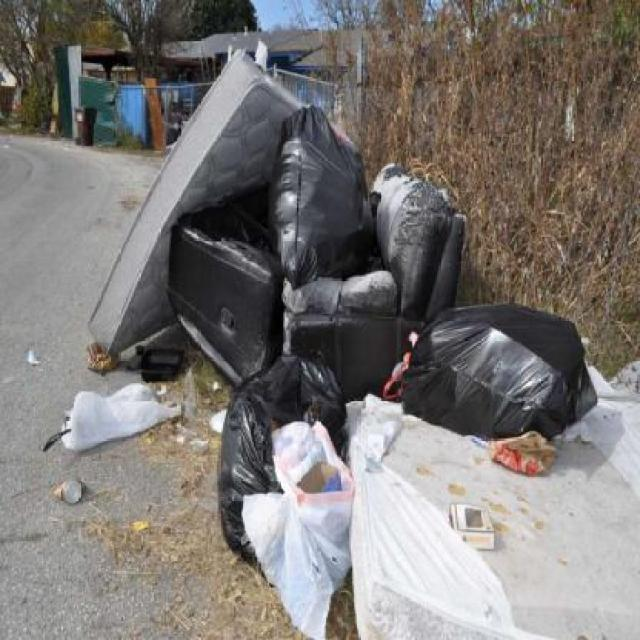garbage: (216, 339, 356, 632), (382, 299, 602, 476), (270, 105, 376, 286), (51, 382, 174, 451), (446, 497, 502, 554)
